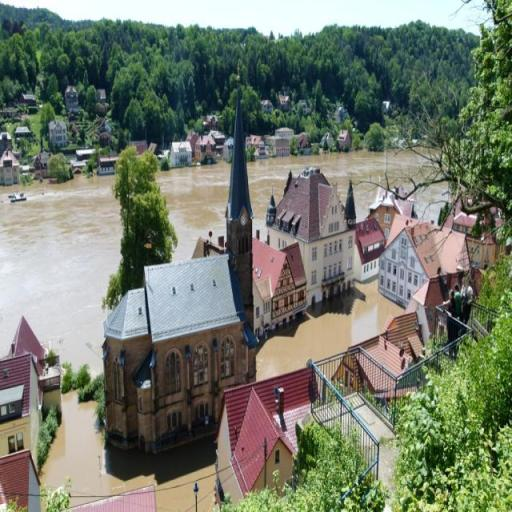flood: (0, 174, 122, 375), (40, 393, 215, 512), (249, 150, 433, 239), (257, 279, 405, 380), (157, 162, 230, 260), (416, 184, 449, 220)
house: (111, 236, 251, 472), (264, 164, 358, 314), (224, 385, 298, 494), (349, 306, 428, 408), (252, 232, 306, 334), (0, 345, 38, 477), (382, 215, 432, 304), (1, 445, 29, 512), (168, 137, 192, 169), (271, 128, 295, 160), (47, 118, 70, 150), (0, 154, 22, 187), (195, 136, 218, 162), (98, 156, 118, 174), (337, 128, 352, 151)
